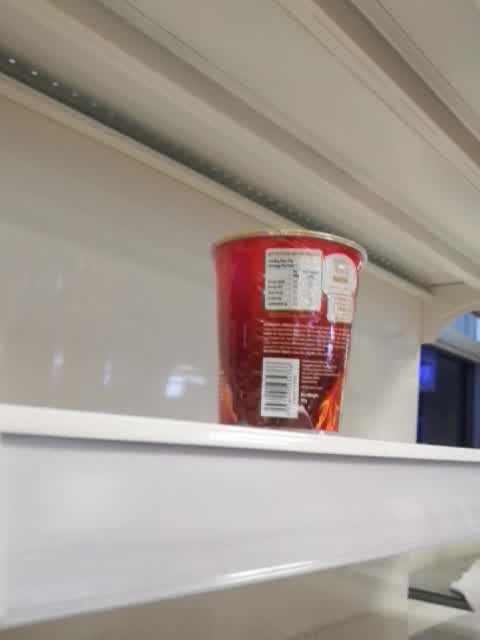maggi: (208, 229, 366, 437)
